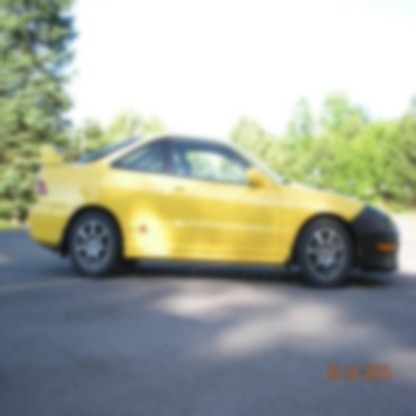Vehicle: (29, 132, 400, 289)
